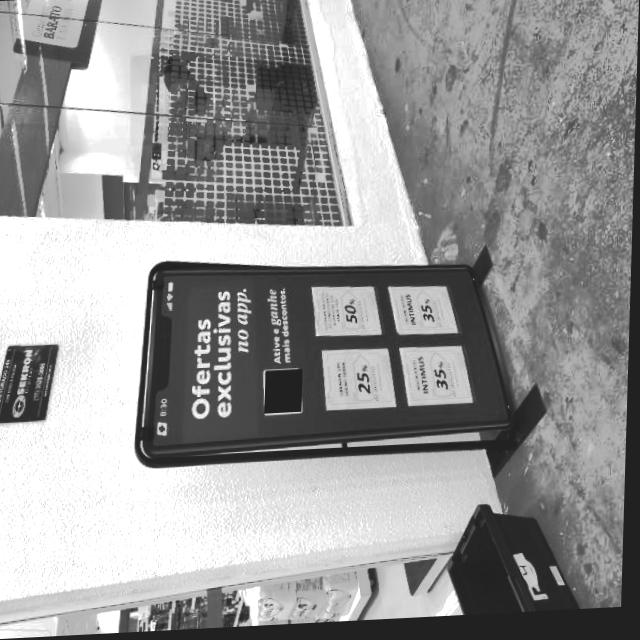qr_code: (267, 372, 305, 415)
